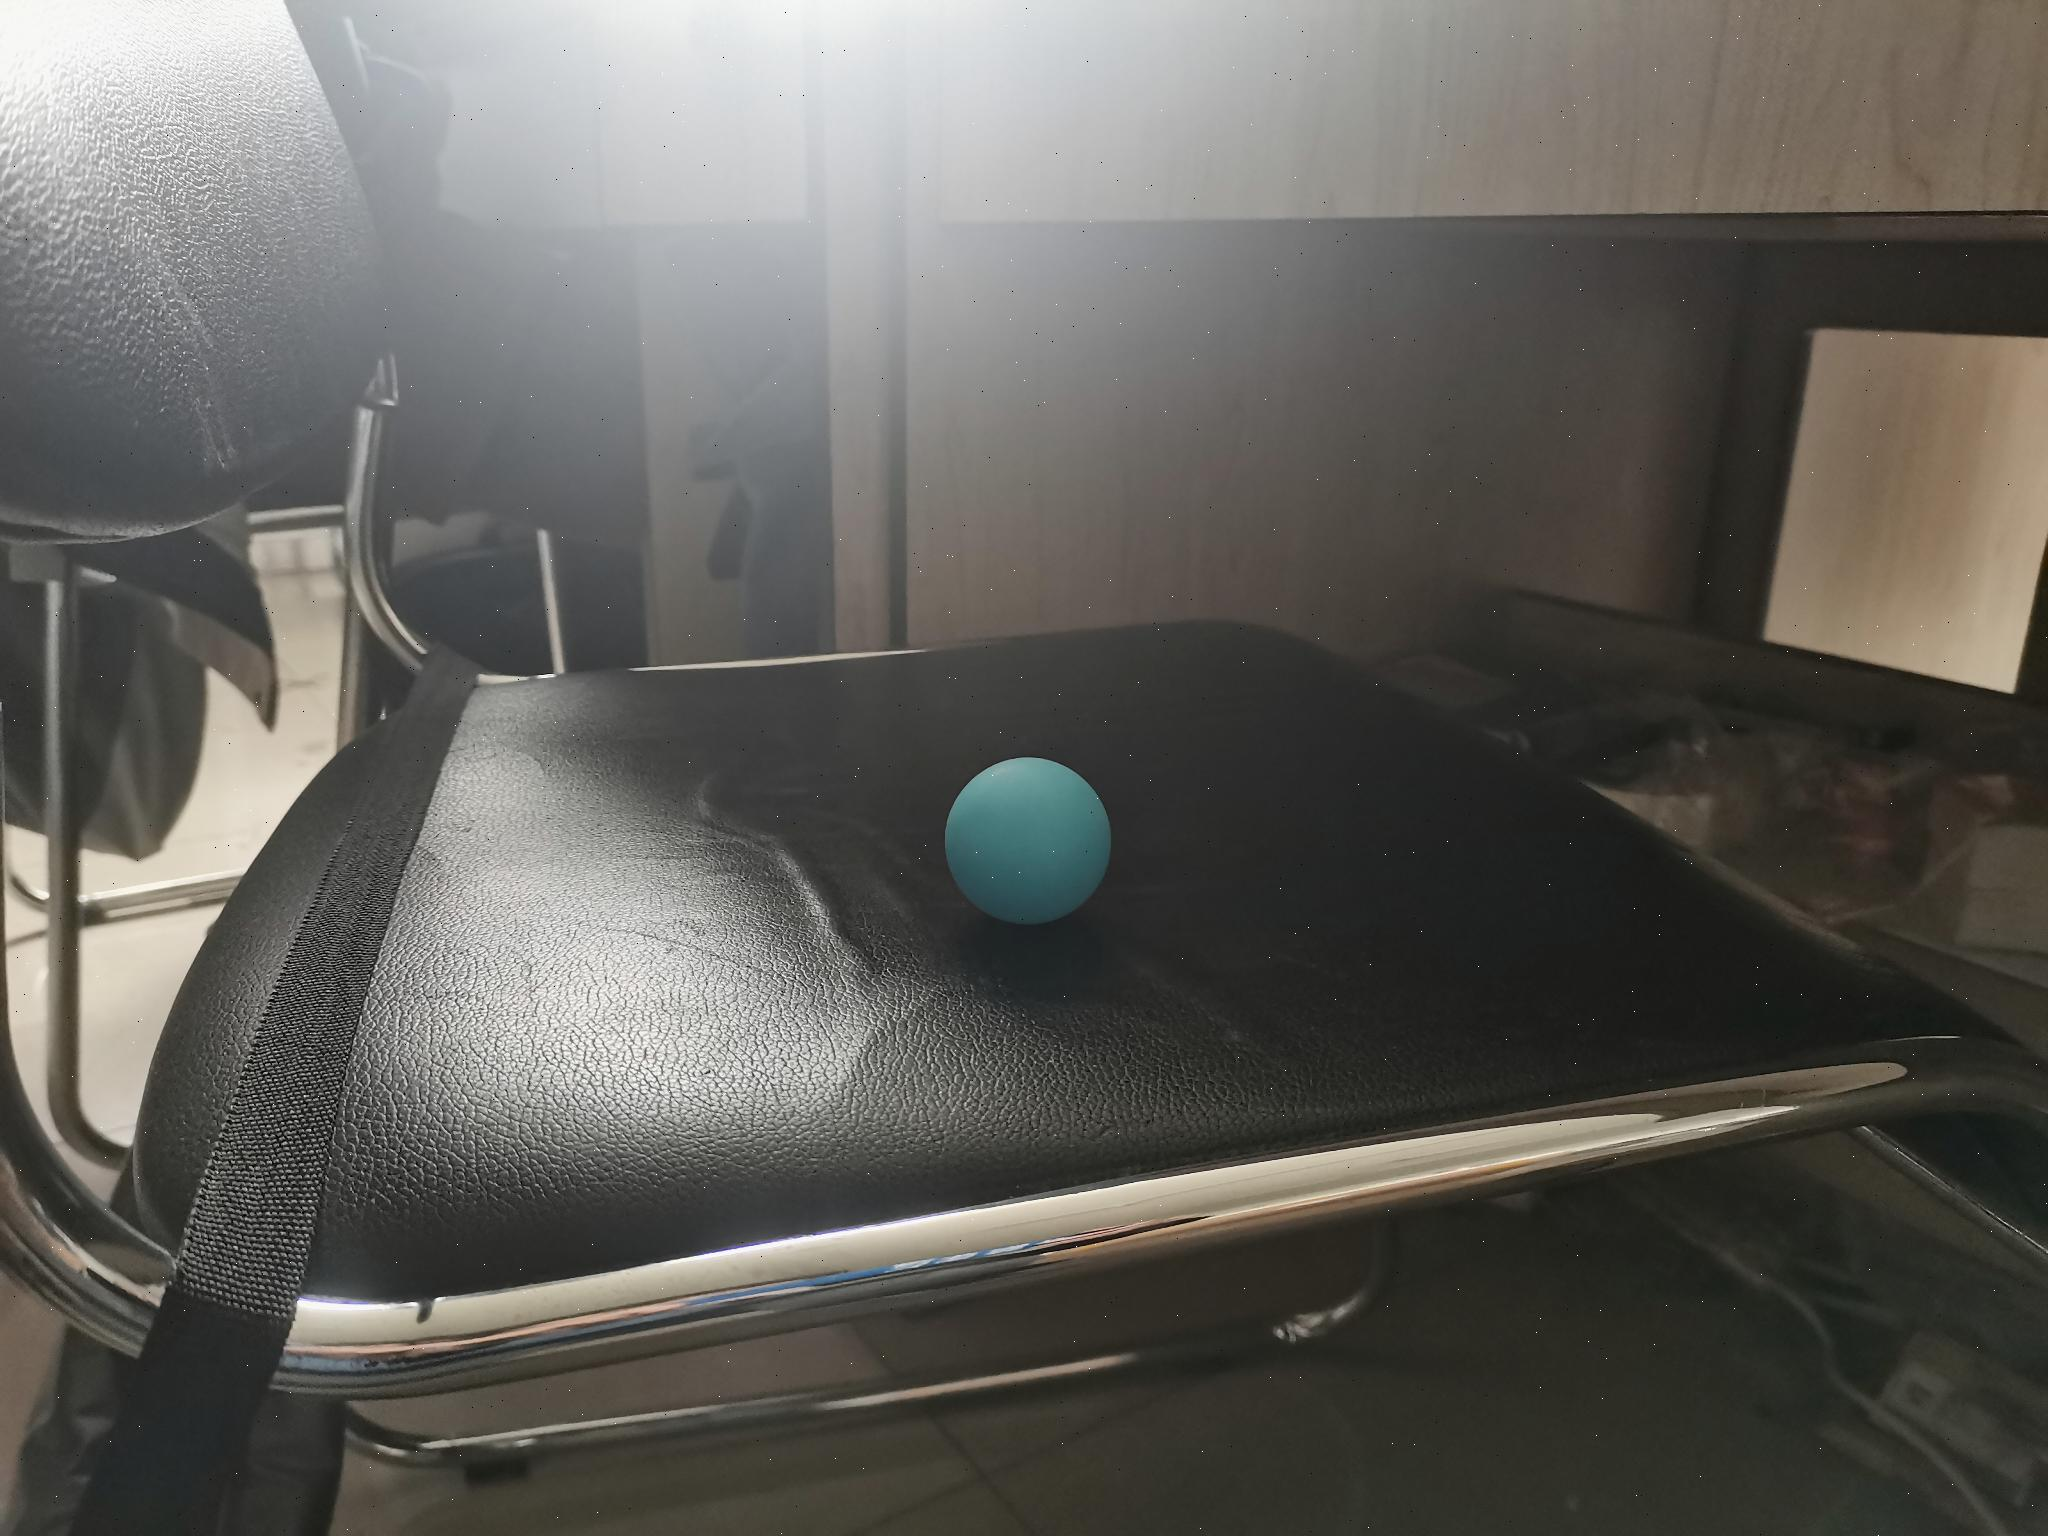ball: (939, 749, 1114, 931)
